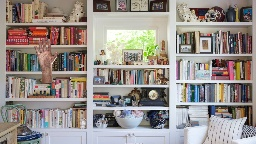Mano_aperta: (33, 37, 58, 70)
